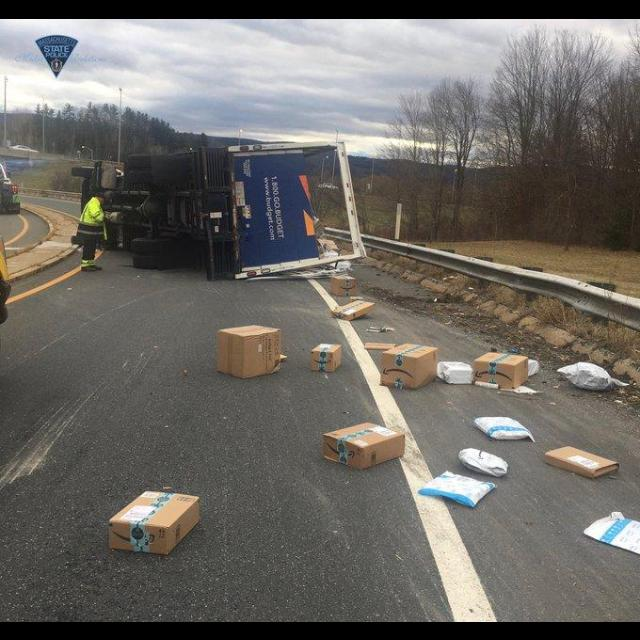box: (104, 486, 204, 558), (321, 420, 411, 470), (214, 320, 284, 378), (544, 441, 626, 479), (379, 340, 438, 392), (474, 349, 534, 389), (308, 342, 346, 374), (334, 299, 376, 321), (328, 272, 362, 296)
mailer: (417, 469, 499, 509), (584, 510, 640, 554), (558, 361, 618, 392), (473, 415, 535, 441), (458, 446, 509, 476), (439, 358, 473, 386)
